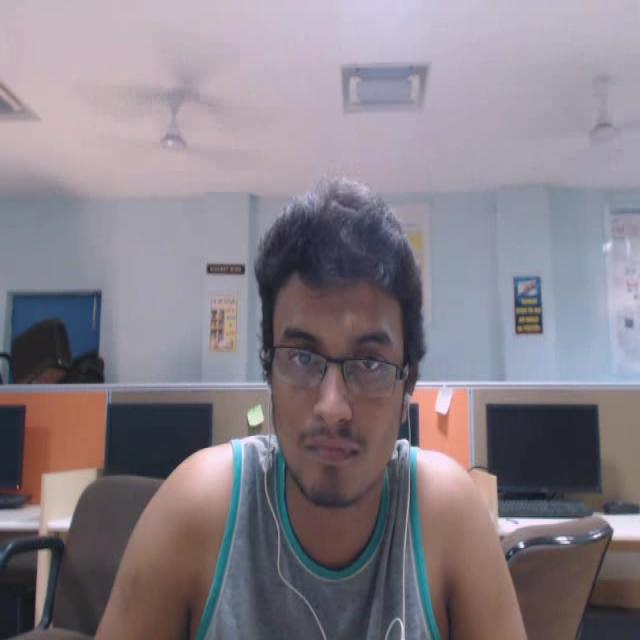Engaged: (232, 173, 454, 561)
